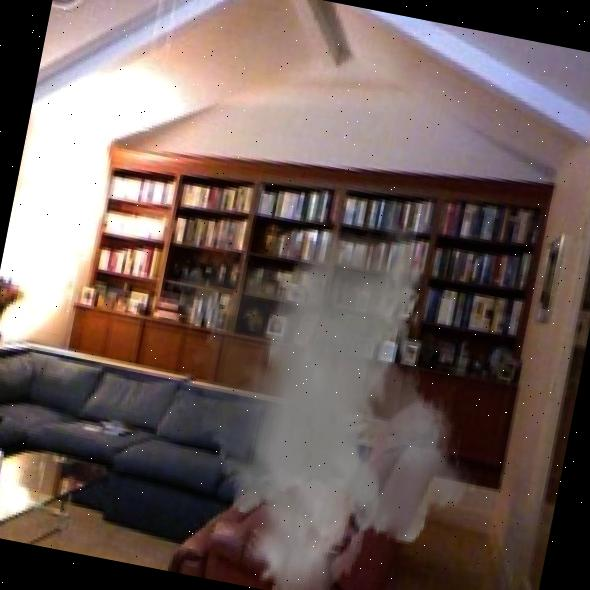smoke: (111, 181, 523, 590)
